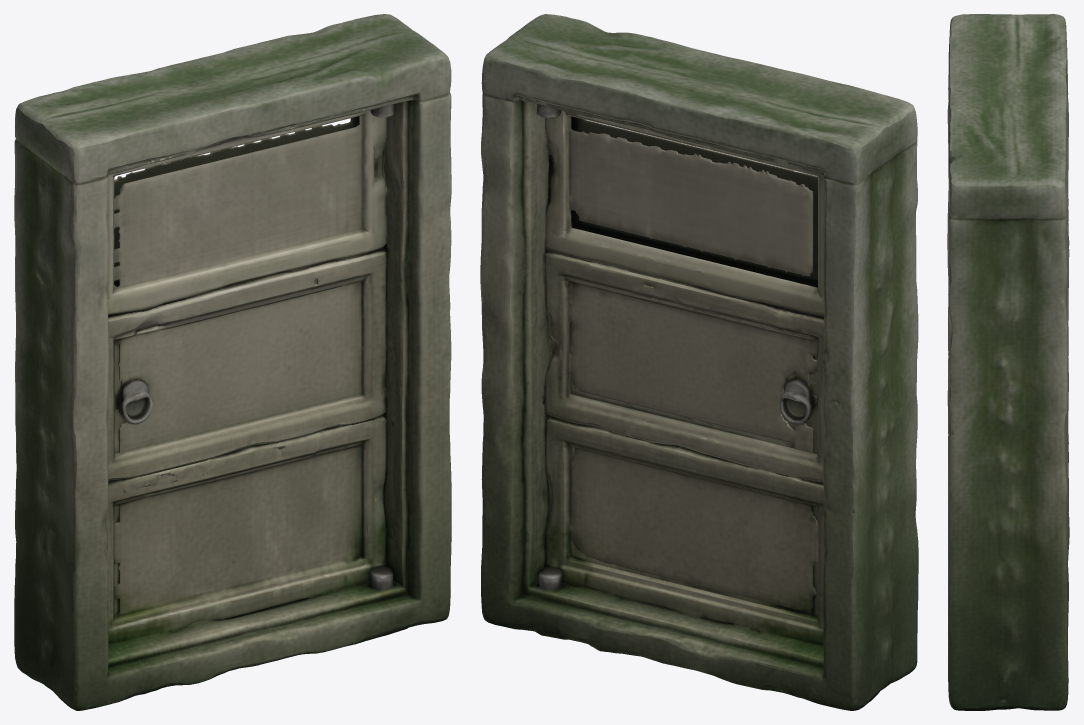
The model's file is ARCH-015.glb.
3 views of the same model, side by side, from view 1: azimuth 30°, elevation 25°; view 2: azimuth 150°, elevation 25°; view 3: azimuth 270°, elevation 25° (orthographic). The views are drawn at different scales.
Visible parts, largest first — view 1: world; view 2: world; view 3: world.
Boxes of the visible parts, box(x1,y1,x2,y2) form: world: box(14, 14, 451, 710); world: box(480, 14, 918, 710); world: box(947, 14, 1069, 710).
Size of the model in its own units: 2.1 by 3 by 0.6261.
Materials: 1 (1 with a texture image).
